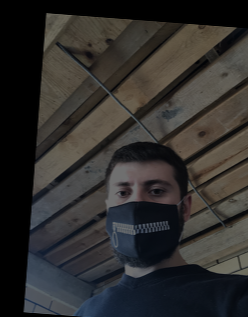with_mask: (106, 171, 180, 269)
